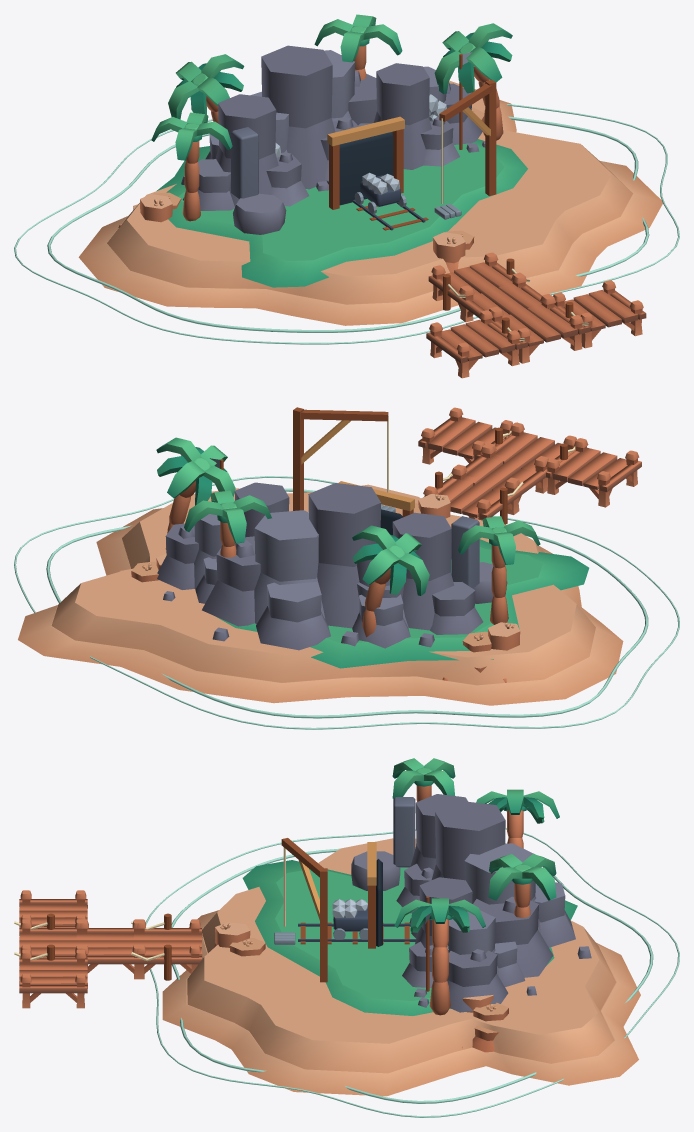
Rendered from metal.glb.
The picture shows the model from 3 angles, top to bottom: view 1: azimuth 30°, elevation 25°; view 2: azimuth 150°, elevation 25°; view 3: azimuth 270°, elevation 25°; orthographic projection. The views are drawn at different scales.
Parts seen in each view (by area): view 1: Beach • sandy silhouette.003, Island ground cover.003, Wet sand shelf.003, rocks-a.002, rocks-a.001, rocks-a.003, palm-detailed-bend.010, structure-platform-dock.003, Shore foam.006, palm-detailed-bend.011, Dock • pier 2.003, structure-platform-dock.004 (+16 smaller); view 2: Beach • sandy silhouette.003, rocks-a.002, Wet sand shelf.003, rocks-a.001, Island ground cover.003, rocks-a.003, palm-detailed-bend.011, palm-detailed-bend.010, structure-platform-dock.003, Shore foam.006, palm-straight.011, Shore foam.007 (+13 smaller); view 3: Beach • sandy silhouette.003, Wet sand shelf.003, Island ground cover.003, rocks-a.002, rocks-a.003, palm-detailed-bend.010, structure-platform-dock.004, Dock • pier 0.003, palm-straight.010, rocks-a.001, Shore foam.007, Dock • pier 1.003 (+12 smaller).
Boxes of the visible parts, x1,y1,x2,y2 form: Beach • sandy silhouette.003: [107, 80, 632, 304]; Island ground cover.003: [135, 139, 527, 287]; Wet sand shelf.003: [78, 100, 662, 325]; rocks-a.002: [251, 45, 376, 189]; rocks-a.001: [181, 94, 328, 210]; rocks-a.003: [358, 63, 485, 169]; palm-detailed-bend.010: [434, 23, 512, 140]; structure-platform-dock.003: [426, 310, 523, 378]; Shore foam.006: [47, 116, 649, 332]; palm-detailed-bend.011: [168, 54, 244, 123]; Dock • pier 2.003: [491, 295, 586, 363]; structure-platform-dock.004: [553, 280, 646, 348]; Beach • sandy silhouette.003: [51, 484, 595, 685]; rocks-a.002: [202, 483, 408, 650]; Wet sand shelf.003: [18, 508, 623, 705]; rocks-a.001: [352, 512, 483, 648]; Island ground cover.003: [217, 539, 589, 668]; rocks-a.003: [157, 482, 289, 603]; palm-detailed-bend.011: [352, 525, 429, 637]; palm-detailed-bend.010: [156, 437, 235, 549]; structure-platform-dock.003: [546, 438, 641, 507]; Shore foam.006: [46, 488, 648, 718]; palm-straight.011: [458, 516, 540, 624]; Shore foam.007: [14, 476, 679, 729]; Beach • sandy silhouette.003: [187, 838, 616, 1073]; Wet sand shelf.003: [162, 910, 640, 1096]; Island ground cover.003: [242, 860, 577, 1015]; rocks-a.002: [411, 801, 591, 977]; rocks-a.003: [402, 877, 536, 1012]; palm-detailed-bend.010: [394, 898, 485, 1015]; structure-platform-dock.004: [19, 949, 87, 1008]; Dock • pier 0.003: [133, 919, 202, 979]; palm-straight.010: [488, 854, 556, 918]; rocks-a.001: [396, 794, 467, 923]; Shore foam.007: [145, 827, 679, 1117]; Dock • pier 1.003: [76, 919, 144, 979].
Bounding box in the file's own units: 26.64 × 6.2 × 25.63.
17 materials, 8 textured.
